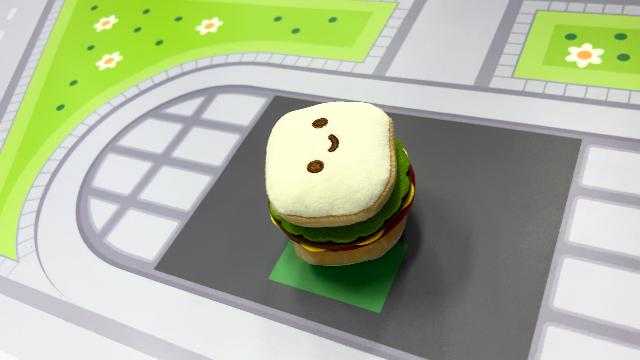sandwich: (262, 98, 418, 268)
